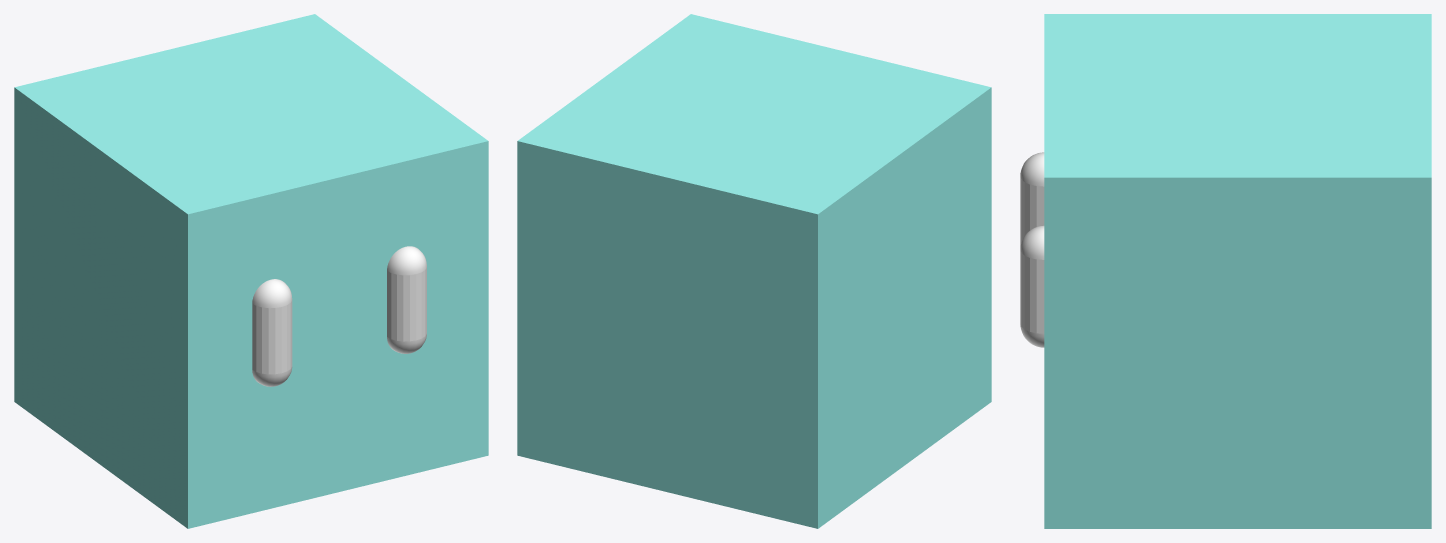
The model's file is HyouiBox.fbx.
The picture shows the model from 3 angles, left to right: view 1: azimuth 30°, elevation 25°; view 2: azimuth 150°, elevation 25°; view 3: azimuth 270°, elevation 25°; orthographic projection. The views are drawn at different scales.
Visible parts, largest first — view 1: hyouiBox, eye; view 2: hyouiBox; view 3: hyouiBox, eye.
Part boxes in pixels (bbox=[...]): hyouiBox: bbox=[14, 14, 488, 528]; eye: bbox=[252, 246, 426, 386]; hyouiBox: bbox=[517, 14, 991, 528]; hyouiBox: bbox=[1044, 14, 1431, 528]; eye: bbox=[1020, 152, 1044, 347].
Size of the model in its own units: 1 by 1 by 1.06.
1 material, 1 textured.
